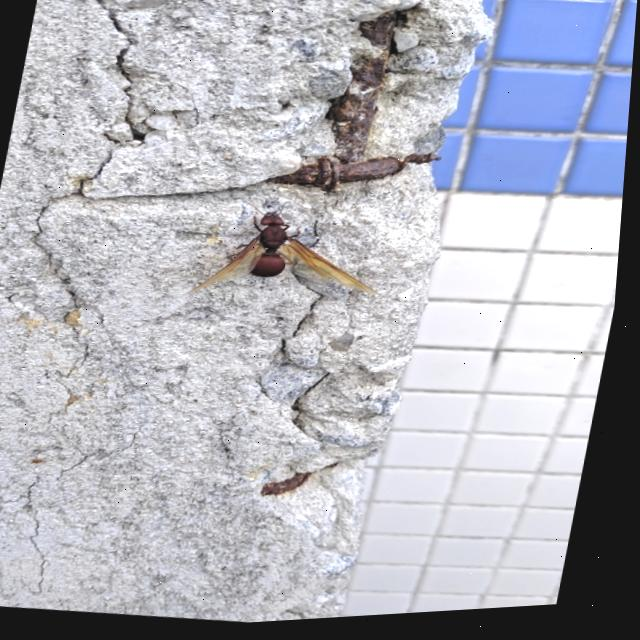Alive-Female-Alate: (187, 190, 403, 321)
